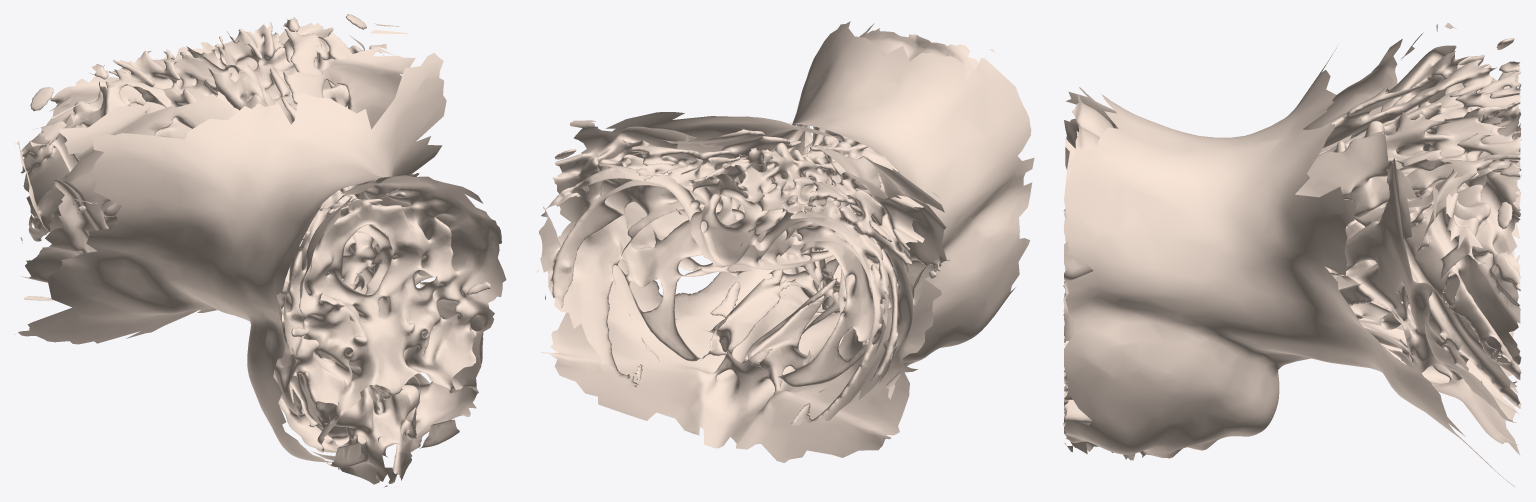
File: neck__skin.0a8576fc2f.glb
The picture shows the model from 3 angles, left to right: view 1: azimuth 30°, elevation 25°; view 2: azimuth 150°, elevation 25°; view 3: azimuth 270°, elevation 25°; orthographic projection. The views are drawn at different scales.
Visible parts, largest first — view 1: FMA7163; view 2: FMA7163; view 3: FMA7163.
Boxes of the visible parts, x1,y1,x2,y2 form: FMA7163: (14, 14, 506, 487); FMA7163: (537, 21, 1034, 462); FMA7163: (1063, 23, 1521, 486).
Size of the model in its own units: 217 by 175 by 217.
